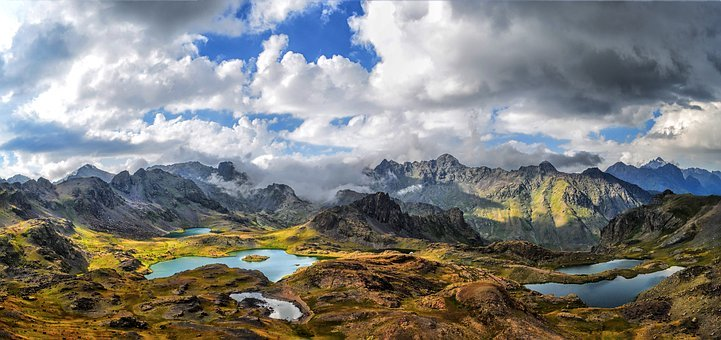mountain: (20, 219, 710, 340), (8, 169, 713, 250)
sky: (6, 4, 721, 167)
